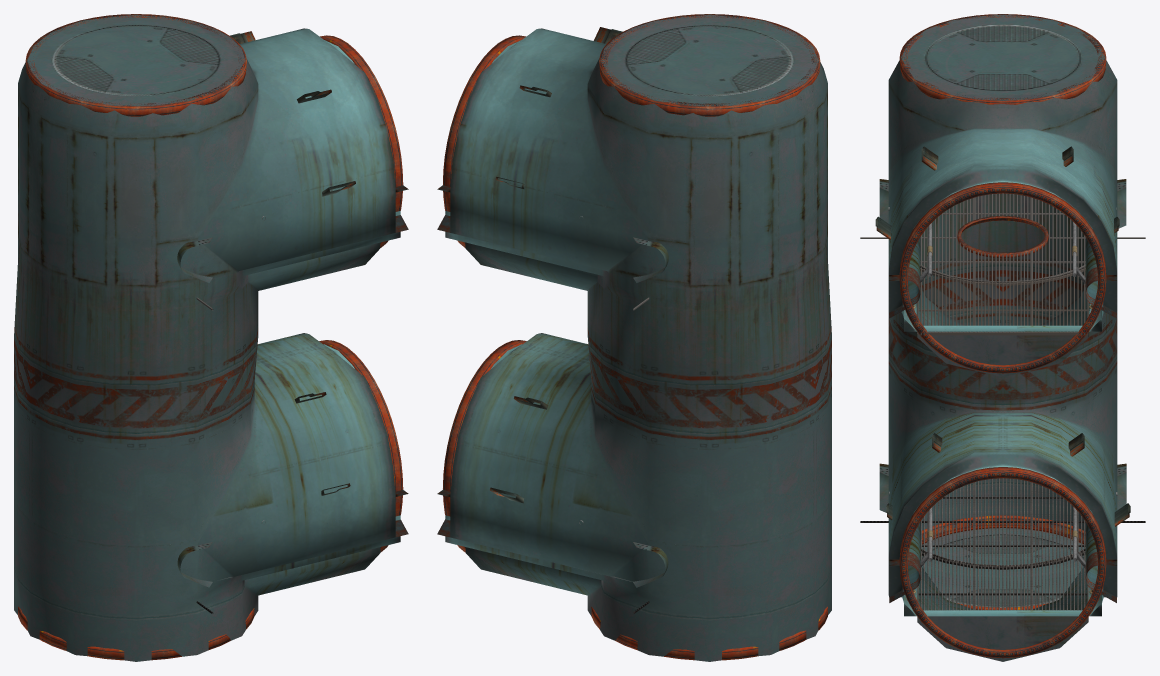
The model's file is tau_tunnel_ladder_short_uturn.dae.
The picture shows the model from 3 angles, left to right: view 1: azimuth 30°, elevation 25°; view 2: azimuth 150°, elevation 25°; view 3: azimuth 270°, elevation 25°; orthographic projection. The views are drawn at different scales.
Visible parts, largest first — view 1: polySurface659, pPipe52, pPipe50, pPipe51, pPipe53, polySurface389, polySurface388; view 2: polySurface659, pPipe52, pPipe50, pPipe51, pPipe53, polySurface388, polySurface389; view 3: polySurface659, pPipe50, pPipe51, polySurface129, polySurface101, polySurface128, polySurface93, pPipe52, polySurface388, polySurface389, polySurface96, polySurface97 (+5 smaller).
Part boxes in pixels (left/top/right/bottom): polySurface659: left=14, top=14, right=400, bottom=661; pPipe52: left=25, top=14, right=246, bottom=116; pPipe50: left=319, top=340, right=403, bottom=551; pPipe51: left=320, top=35, right=403, bottom=247; pPipe53: left=18, top=606, right=254, bottom=660; polySurface389: left=177, top=185, right=408, bottom=282; polySurface388: left=177, top=490, right=408, bottom=587; polySurface659: left=445, top=14, right=831, bottom=661; pPipe52: left=599, top=14, right=820, bottom=116; pPipe50: left=443, top=340, right=526, bottom=552; pPipe51: left=443, top=35, right=525, bottom=247; pPipe53: left=591, top=606, right=827, bottom=660; polySurface388: left=437, top=490, right=668, bottom=587; polySurface389: left=437, top=185, right=668, bottom=282; polySurface659: left=888, top=14, right=1117, bottom=661; pPipe50: left=899, top=467, right=1106, bottom=658; pPipe51: left=899, top=182, right=1106, bottom=373; polySurface129: left=917, top=267, right=1088, bottom=335; polySurface101: left=860, top=193, right=1145, bottom=281; polySurface128: left=917, top=551, right=1088, bottom=610; polySurface93: left=974, top=478, right=1031, bottom=566; pPipe52: left=899, top=14, right=1106, bottom=104; polySurface388: left=879, top=463, right=1126, bottom=602; polySurface389: left=879, top=179, right=1126, bottom=318; polySurface96: left=860, top=482, right=974, bottom=565; polySurface97: left=1031, top=482, right=1145, bottom=565.
Bounding box in the file's own units: 6 × 9.93 × 5.
